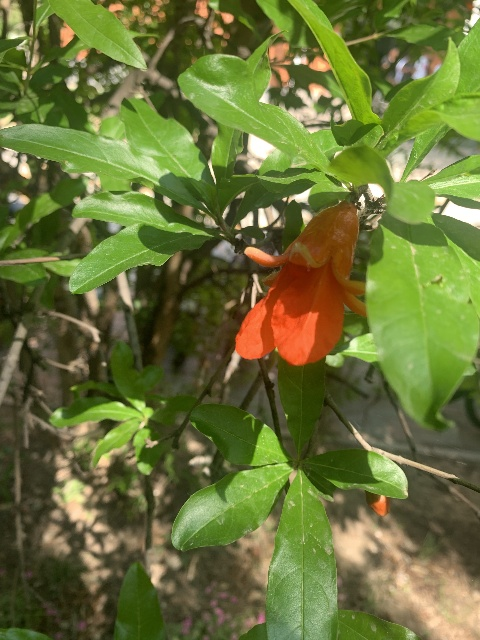bud: (363, 490, 390, 516)
flower: (234, 200, 366, 366)
